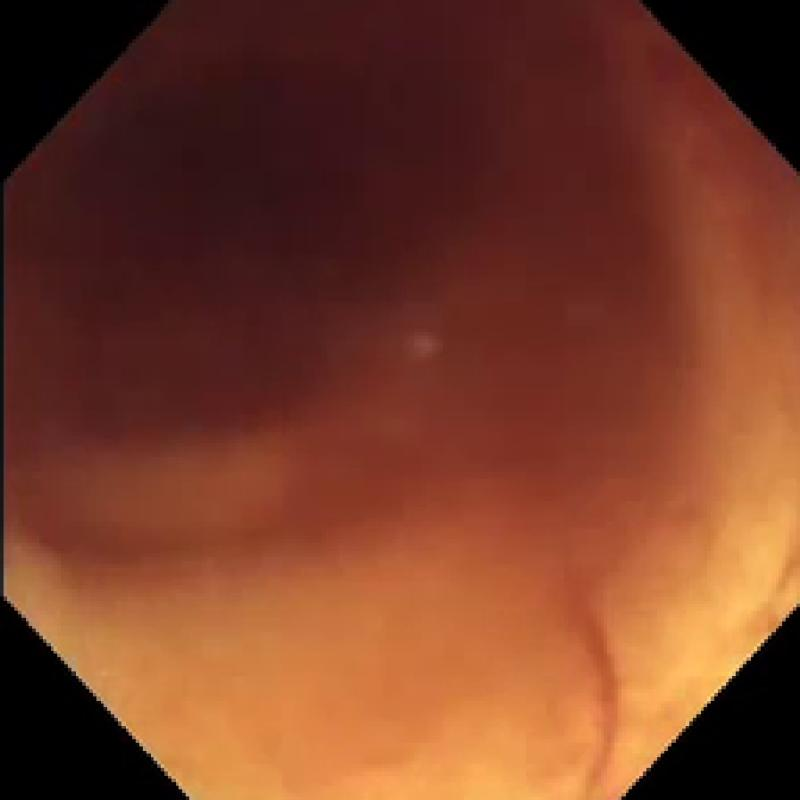bleeding: (4, 14, 707, 500), (560, 578, 628, 800)
